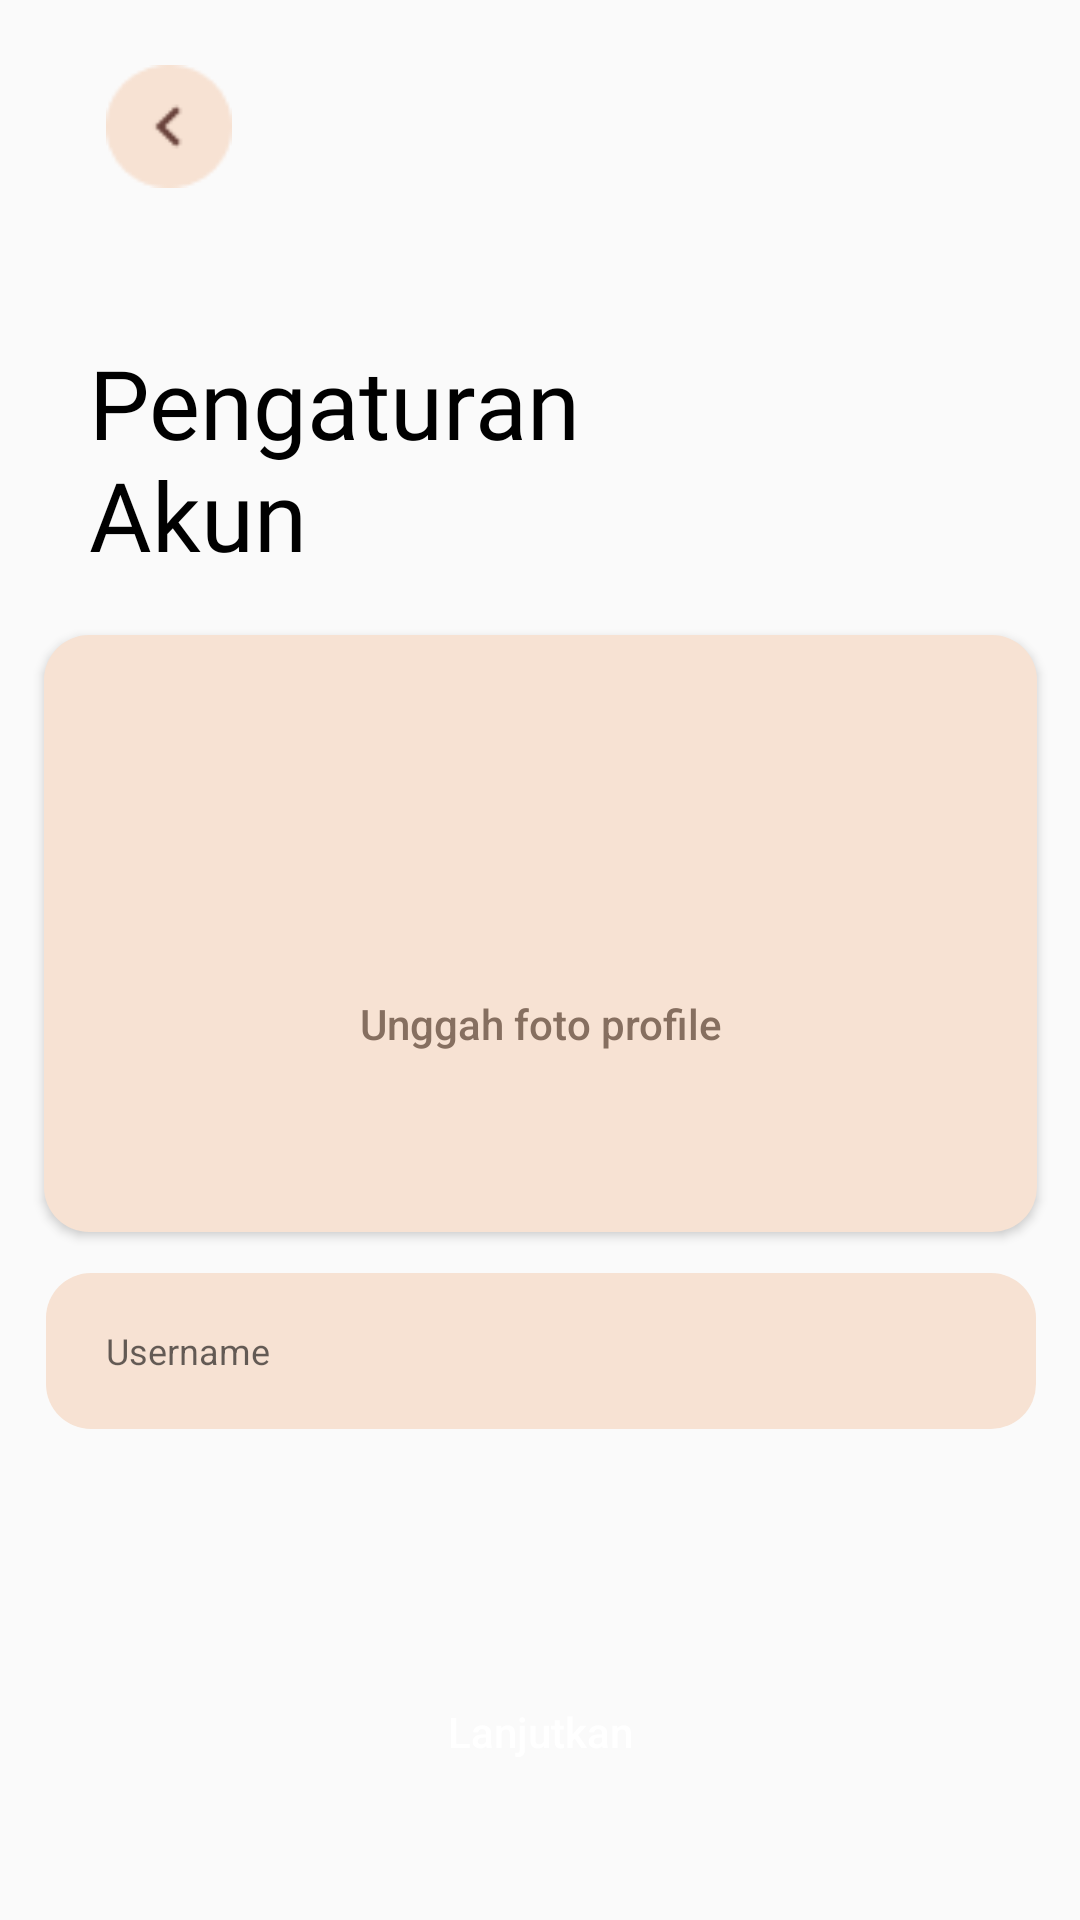

Where to tap for icons on this 1080x1920 app screen, as [x,y]:
back: [169,126]
